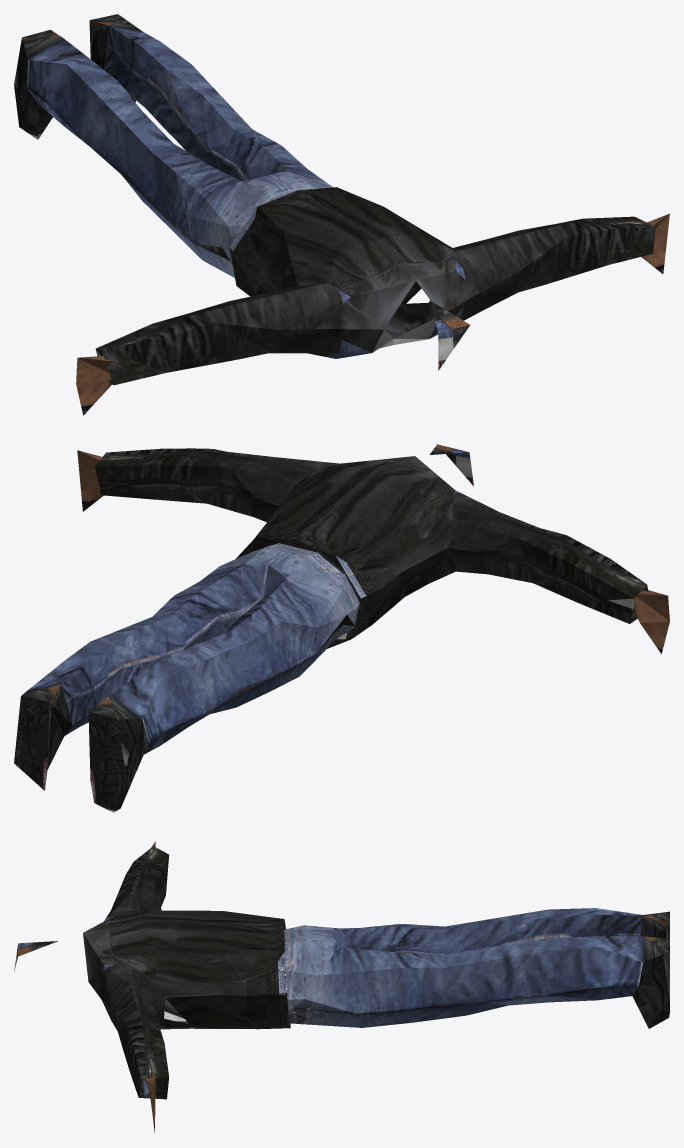
Rendered from thug_AJlow_wtf.obj.
3 renders of one model, top to bottom at view 1: azimuth 30°, elevation 25°; view 2: azimuth 150°, elevation 25°; view 3: azimuth 270°, elevation 25°, orthographic. The views are drawn at different scales.
Visible parts, largest first — view 1: group1; view 2: group1; view 3: group1.
Boxes of the visible parts, x1,y1,x2,y2 form: group1: [14, 14, 669, 415]; group1: [14, 444, 669, 812]; group1: [14, 841, 669, 1132].
Bounding box in the file's own units: 585 × 115 × 660.
